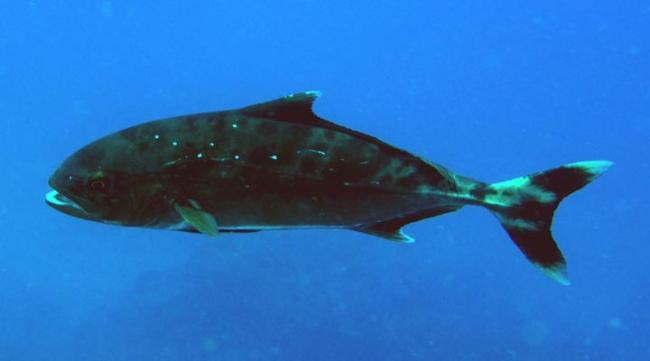fish: (45, 90, 615, 287)
